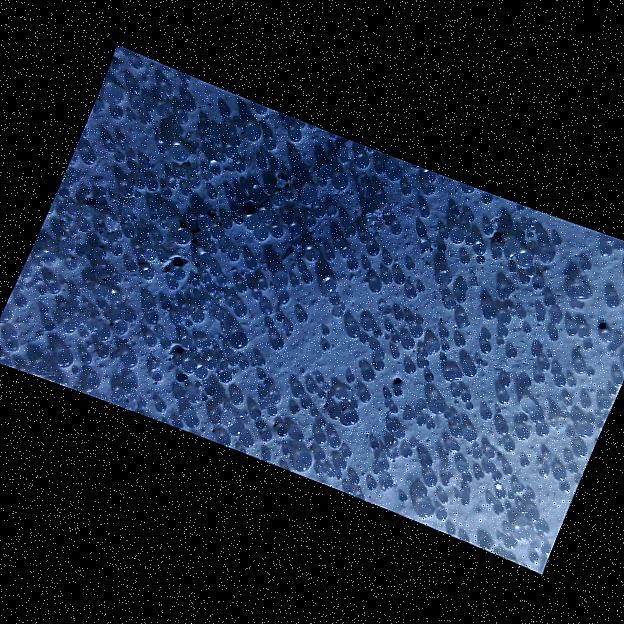GrassBeadSeg: (144, 101, 610, 511), (112, 246, 591, 540), (105, 142, 574, 438), (124, 227, 535, 558), (96, 220, 539, 522), (183, 98, 502, 481), (79, 188, 447, 485), (114, 230, 515, 496), (110, 275, 504, 541), (136, 83, 434, 429), (122, 186, 432, 516), (127, 151, 475, 441), (258, 159, 515, 549), (66, 259, 543, 467), (240, 163, 527, 499), (117, 152, 558, 366), (126, 149, 612, 342), (115, 153, 409, 458), (144, 249, 491, 503), (131, 187, 493, 427), (80, 223, 426, 466), (64, 238, 508, 426), (157, 104, 543, 319), (255, 124, 566, 387), (138, 327, 573, 505), (7, 208, 426, 384), (60, 238, 355, 482), (111, 274, 451, 485), (153, 234, 424, 497), (176, 112, 505, 328), (185, 147, 619, 308), (128, 83, 396, 340), (208, 245, 470, 506), (207, 359, 539, 564), (158, 142, 394, 425), (75, 204, 365, 434), (243, 214, 515, 452), (132, 58, 475, 245), (169, 179, 576, 336), (135, 263, 404, 494), (263, 193, 465, 498), (142, 145, 340, 439), (186, 185, 435, 416), (83, 152, 295, 413), (305, 218, 548, 436), (44, 186, 407, 330), (98, 347, 485, 479), (22, 273, 358, 424), (188, 187, 380, 450), (360, 296, 616, 493), (81, 211, 319, 417), (174, 179, 524, 319), (236, 163, 421, 423), (113, 162, 388, 335), (102, 60, 346, 249), (156, 298, 555, 412), (72, 367, 426, 495), (289, 131, 552, 303), (188, 273, 623, 372), (181, 337, 497, 472), (64, 344, 490, 444), (161, 236, 529, 349), (105, 143, 264, 398), (295, 279, 539, 442), (146, 209, 429, 346), (151, 228, 360, 410), (256, 357, 565, 480), (144, 167, 397, 310), (154, 234, 368, 396), (238, 359, 480, 502), (274, 140, 425, 369), (195, 280, 544, 378), (84, 152, 232, 383), (268, 295, 524, 427), (246, 124, 348, 448), (87, 188, 313, 331), (263, 206, 465, 365), (283, 306, 497, 456), (225, 276, 389, 471), (363, 261, 511, 475), (43, 208, 336, 316), (124, 283, 425, 385), (125, 274, 590, 338), (189, 74, 387, 223), (289, 223, 400, 480), (372, 245, 510, 451), (418, 261, 589, 426), (96, 328, 476, 402), (146, 102, 230, 424), (110, 106, 330, 228), (211, 226, 325, 461), (49, 321, 448, 386), (255, 227, 465, 347), (367, 244, 545, 384), (230, 228, 356, 424), (375, 162, 473, 411), (56, 272, 309, 368), (188, 341, 592, 400), (203, 396, 479, 480), (306, 255, 470, 392), (140, 113, 228, 368), (387, 332, 606, 431), (395, 311, 582, 424), (46, 189, 317, 266), (287, 254, 531, 337), (277, 255, 389, 435), (41, 283, 264, 373), (155, 142, 237, 382), (177, 389, 592, 436), (278, 293, 461, 398), (341, 343, 491, 471), (228, 250, 385, 371), (83, 206, 288, 296), (508, 205, 589, 430), (288, 129, 415, 270), (82, 294, 337, 364), (309, 383, 524, 466), (213, 338, 504, 399), (163, 188, 392, 264), (250, 327, 423, 427), (256, 248, 352, 428), (219, 259, 359, 382), (88, 190, 173, 389), (39, 255, 467, 294), (293, 370, 455, 471), (422, 172, 623, 252), (368, 298, 451, 490), (174, 268, 267, 435), (246, 258, 380, 369), (305, 256, 482, 338), (265, 280, 341, 470), (304, 247, 416, 373), (226, 146, 369, 242), (103, 231, 210, 358), (196, 382, 329, 484), (329, 166, 484, 253), (80, 353, 300, 414), (313, 207, 462, 297), (67, 204, 137, 390), (261, 350, 399, 442), (175, 228, 307, 323), (205, 250, 502, 292), (291, 225, 401, 335), (120, 88, 178, 290), (356, 155, 415, 350), (254, 227, 416, 298), (208, 250, 553, 282), (363, 250, 498, 331), (153, 335, 401, 379), (362, 155, 412, 373), (117, 230, 182, 395), (150, 212, 199, 427), (178, 240, 288, 335), (453, 195, 492, 460), (276, 315, 430, 379), (191, 215, 280, 323), (377, 325, 528, 388), (154, 313, 409, 350), (125, 353, 434, 383), (128, 313, 508, 337), (105, 87, 137, 367), (436, 393, 506, 520), (233, 149, 305, 272), (127, 215, 208, 324), (473, 316, 545, 436), (429, 257, 484, 413), (293, 344, 449, 397), (483, 225, 513, 499), (352, 298, 456, 375), (307, 207, 338, 464), (202, 151, 270, 268), (346, 316, 464, 383), (367, 201, 521, 252), (333, 174, 405, 283), (147, 190, 217, 301), (219, 226, 254, 446), (231, 273, 289, 404), (236, 251, 451, 285), (261, 303, 371, 369), (342, 411, 492, 457), (360, 392, 433, 485), (91, 299, 184, 372), (383, 399, 501, 453), (394, 272, 511, 325), (394, 404, 471, 483), (318, 376, 380, 474), (180, 229, 284, 286), (268, 375, 340, 456), (261, 151, 387, 197), (182, 359, 326, 399), (441, 232, 515, 309), (382, 451, 517, 492), (385, 335, 434, 447), (447, 273, 512, 357), (66, 189, 151, 253), (212, 266, 531, 283), (542, 378, 572, 555), (322, 273, 390, 351), (177, 373, 353, 402), (16, 296, 281, 315), (126, 216, 213, 272), (370, 342, 412, 458), (248, 154, 347, 203), (100, 326, 420, 341), (292, 391, 392, 439), (128, 112, 169, 228), (217, 345, 268, 438), (454, 371, 491, 499), (316, 442, 464, 474), (362, 287, 412, 381), (428, 409, 489, 486), (162, 300, 225, 374), (191, 275, 227, 402), (176, 259, 254, 317), (183, 100, 273, 150), (260, 104, 339, 159), (406, 260, 469, 328), (341, 248, 359, 485), (588, 247, 611, 426), (65, 102, 108, 197), (504, 325, 532, 468), (533, 378, 622, 421), (176, 259, 212, 365), (173, 267, 392, 284), (112, 63, 127, 311), (147, 181, 432, 194), (336, 389, 458, 419), (528, 346, 577, 420), (429, 317, 561, 344), (120, 294, 223, 328), (179, 279, 219, 366), (328, 436, 393, 488), (544, 454, 579, 549), (454, 419, 602, 441), (444, 451, 521, 493), (66, 175, 158, 210), (21, 228, 86, 277), (160, 85, 267, 114), (95, 102, 185, 136), (148, 169, 402, 181), (9, 320, 85, 360), (391, 441, 460, 485), (207, 243, 447, 255), (189, 123, 231, 189), (182, 285, 226, 348), (181, 185, 411, 197), (548, 317, 616, 357), (90, 290, 190, 317), (303, 279, 382, 311), (520, 378, 576, 423), (239, 290, 261, 404), (377, 424, 509, 443), (219, 416, 272, 463), (63, 320, 157, 346), (387, 317, 444, 359), (137, 191, 170, 262), (229, 292, 270, 348), (422, 229, 522, 251), (271, 394, 393, 412), (34, 350, 117, 376), (251, 279, 264, 437), (159, 331, 235, 358), (490, 451, 531, 501), (79, 187, 107, 259), (377, 173, 435, 205), (494, 394, 510, 508), (270, 224, 399, 238), (556, 367, 618, 395), (22, 285, 79, 315), (578, 364, 612, 409), (223, 139, 240, 228), (152, 210, 268, 223), (440, 333, 487, 365), (516, 374, 538, 439), (248, 178, 327, 196), (391, 410, 411, 481), (539, 444, 583, 476), (488, 524, 548, 547), (17, 266, 67, 291), (486, 289, 510, 340), (58, 176, 80, 229), (453, 369, 471, 432), (417, 501, 504, 514), (520, 377, 544, 423), (547, 481, 570, 528), (524, 398, 587, 415), (292, 166, 325, 197), (374, 315, 415, 339), (498, 311, 517, 359), (113, 64, 188, 76), (124, 136, 150, 170), (481, 532, 533, 549), (425, 402, 460, 426), (418, 223, 471, 238), (226, 138, 238, 199), (591, 343, 612, 377), (394, 388, 416, 420), (147, 160, 184, 179), (167, 86, 181, 135), (524, 458, 560, 477), (522, 223, 551, 246), (238, 191, 293, 203), (212, 343, 239, 367), (117, 113, 137, 145), (527, 493, 538, 551), (534, 222, 559, 247), (75, 291, 88, 338), (439, 208, 458, 240), (257, 371, 267, 430), (212, 416, 231, 447), (399, 388, 424, 411), (523, 232, 546, 257), (217, 155, 232, 193), (377, 324, 392, 360), (201, 121, 236, 136), (569, 445, 587, 474), (366, 208, 391, 228), (125, 191, 141, 221), (237, 183, 250, 216), (84, 298, 126, 308), (153, 331, 164, 368), (552, 364, 585, 375), (464, 444, 475, 473), (457, 209, 475, 225), (484, 450, 496, 473), (322, 466, 343, 479), (200, 273, 216, 289), (331, 150, 349, 164), (121, 389, 138, 403), (115, 351, 120, 398), (219, 107, 230, 128), (206, 131, 220, 147), (203, 167, 219, 181), (564, 412, 601, 418), (200, 121, 212, 139), (229, 215, 244, 229), (213, 155, 223, 175), (453, 418, 463, 438), (181, 164, 199, 174), (439, 493, 448, 512), (523, 221, 539, 231), (145, 313, 158, 325), (213, 128, 223, 142), (331, 436, 341, 449), (123, 209, 132, 223), (216, 311, 226, 323), (172, 315, 182, 326), (330, 295, 342, 304), (60, 188, 69, 199), (426, 345, 437, 354), (210, 268, 221, 276), (329, 470, 340, 478), (552, 421, 566, 426), (181, 76, 189, 84), (608, 344, 615, 353), (587, 367, 592, 377), (551, 317, 556, 325)
